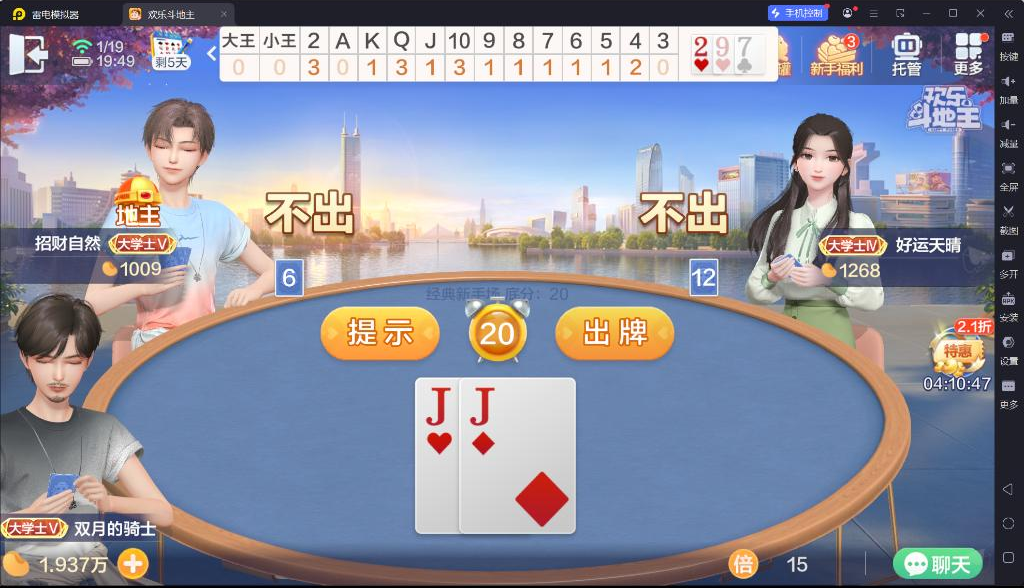J: (467, 385, 497, 429), (422, 384, 452, 427)
nine: (713, 35, 731, 57)
seven: (736, 36, 753, 58)
two: (692, 35, 708, 57)
